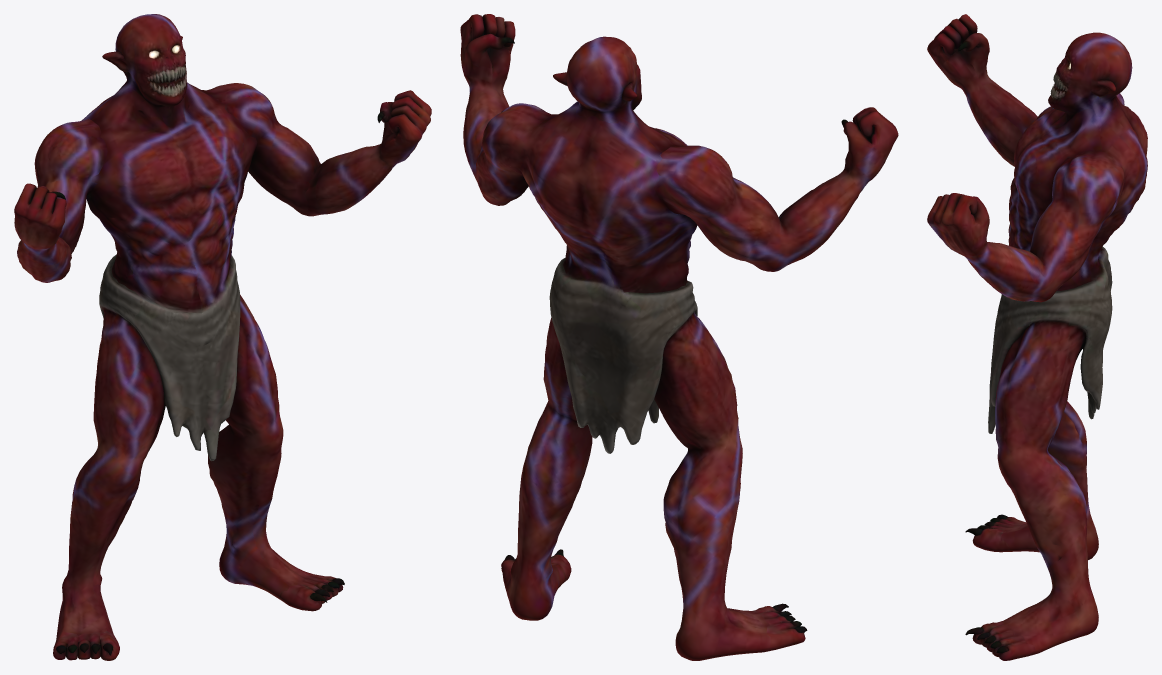
File: MZ4250 - Starspawn Hulk.glb
The picture shows the model from 3 angles, left to right: view 1: azimuth 30°, elevation 25°; view 2: azimuth 150°, elevation 25°; view 3: azimuth 270°, elevation 25°; orthographic projection. The views are drawn at different scales.
Parts seen in each view (by area): view 1: Body.002; view 2: Body.002; view 3: Body.002.
Boxes of the visible parts, box(x1,y1,x2,y2) form: Body.002: box(14, 14, 431, 660); Body.002: box(460, 14, 898, 660); Body.002: box(927, 14, 1147, 660).
Size of the model in its own units: 1.37 by 1.81 by 0.646.
1 material, 1 textured.
